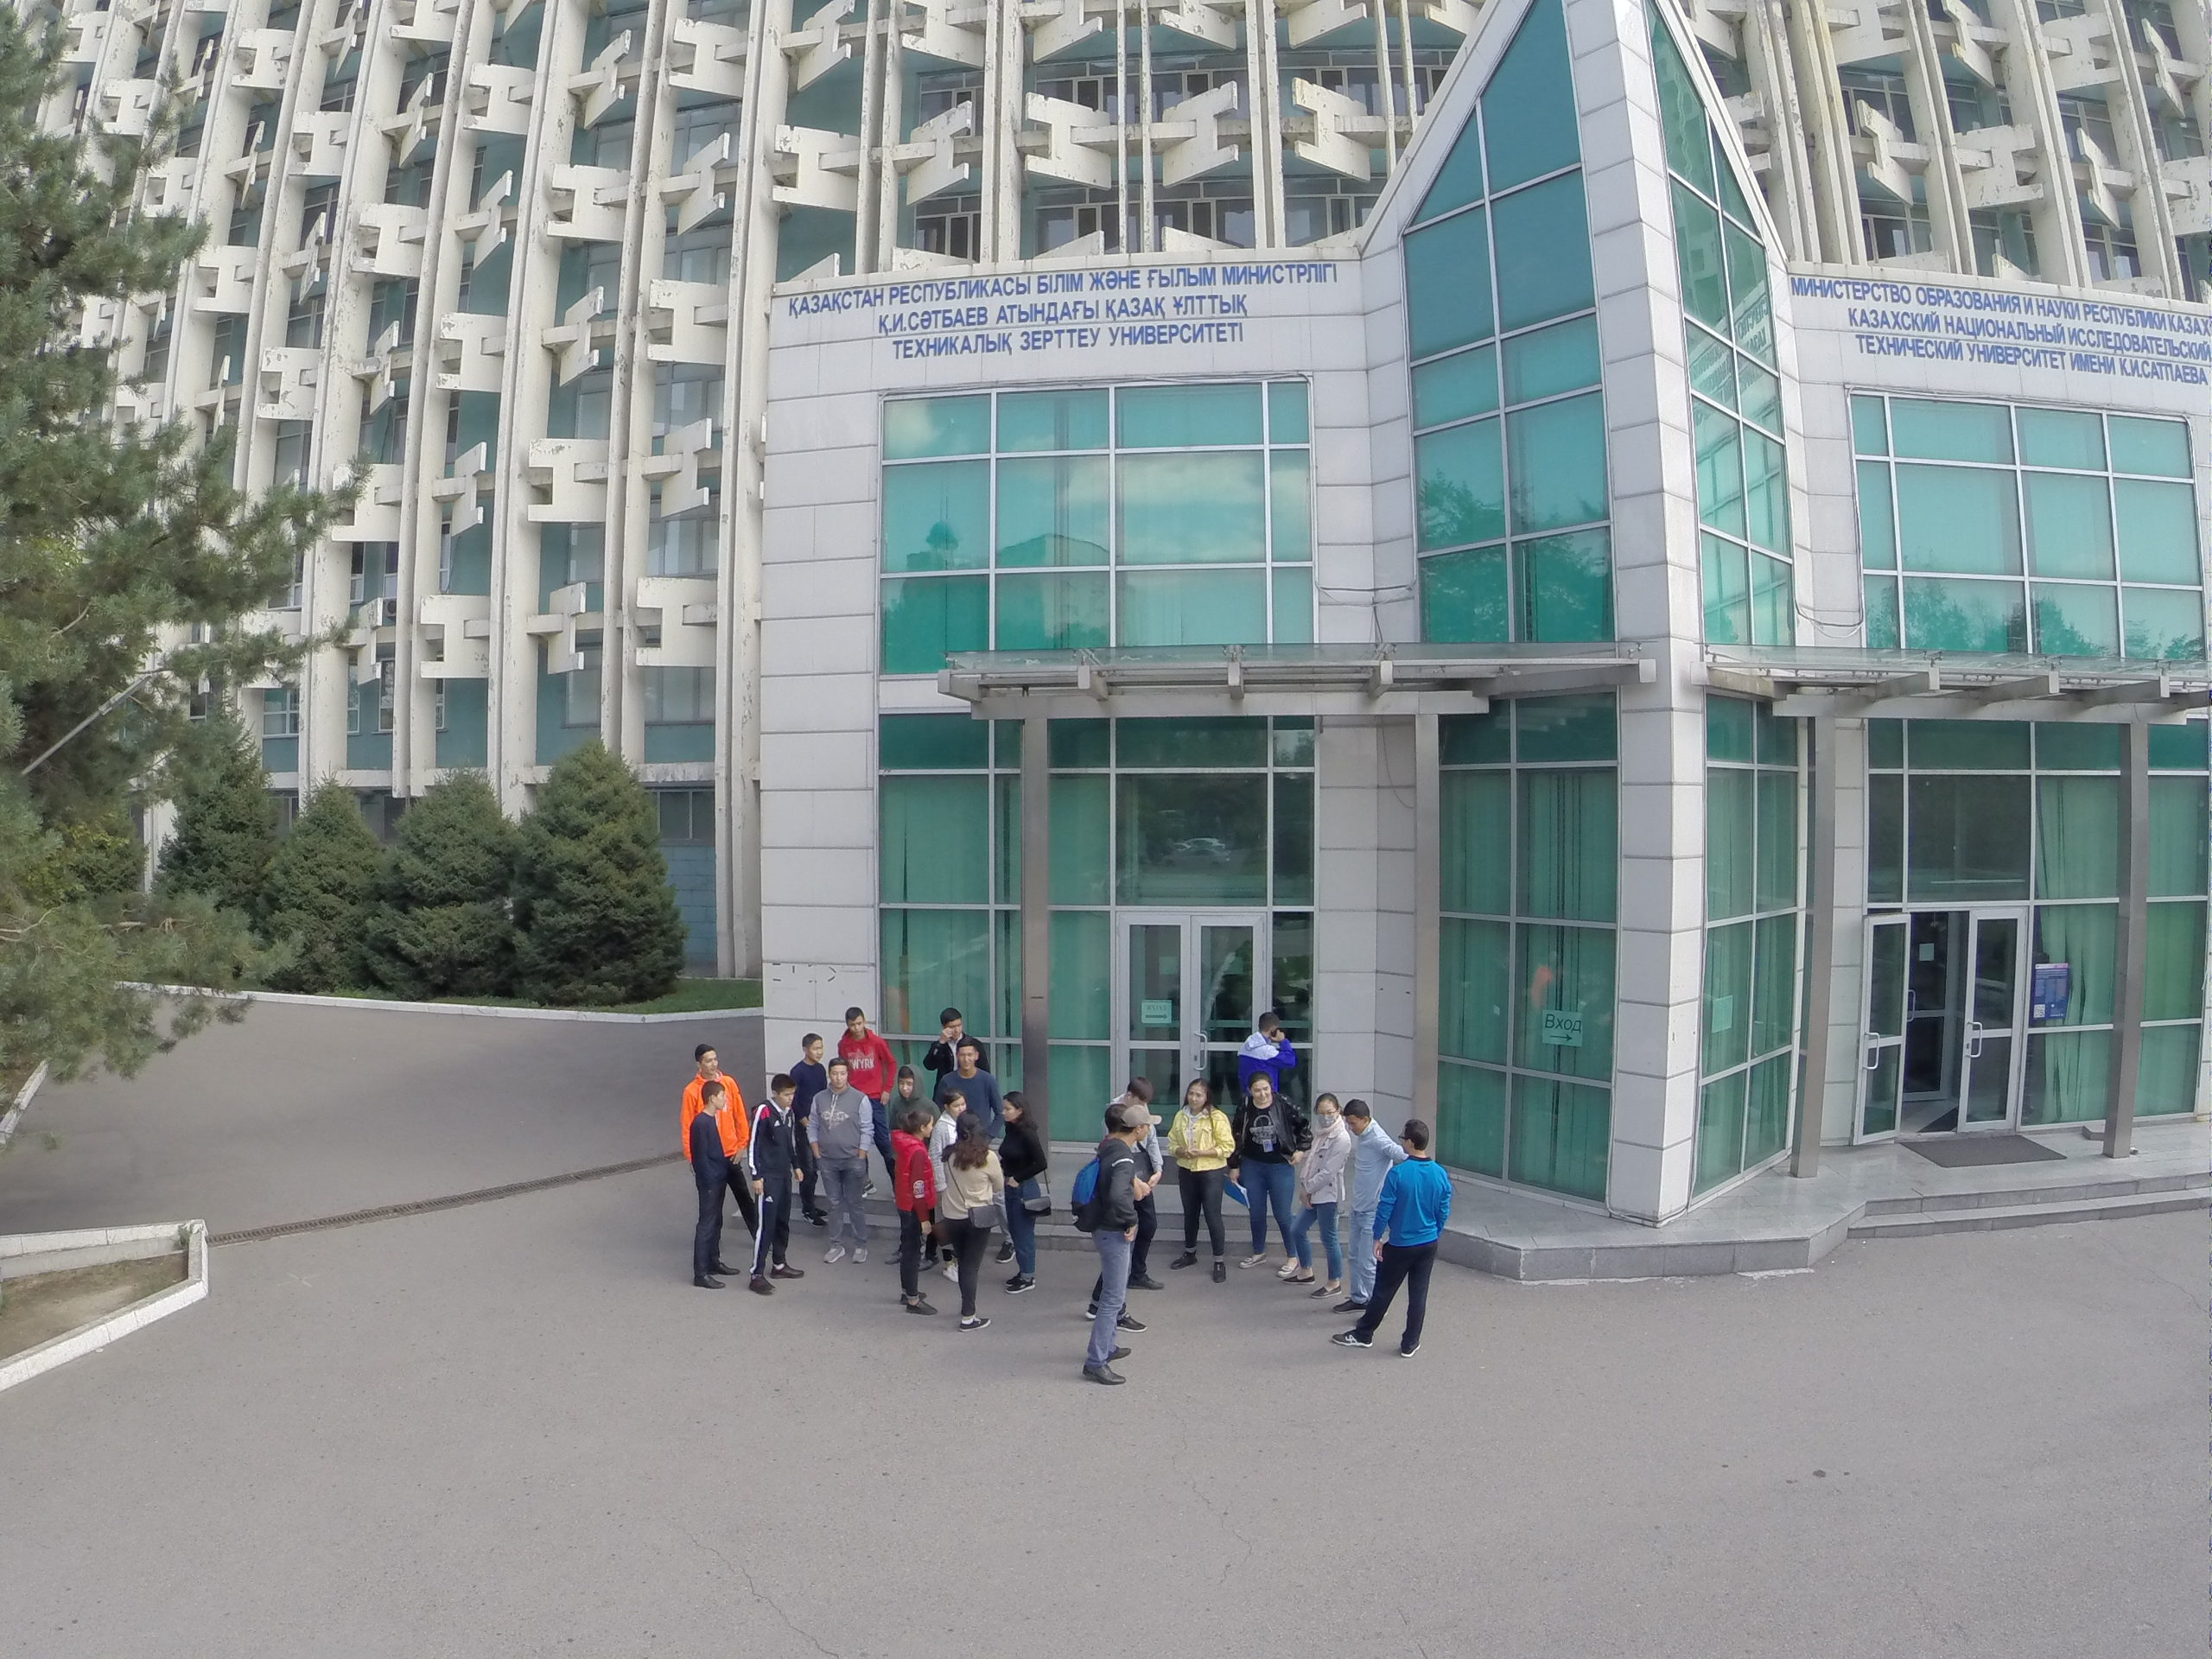person: (1080, 1112, 1154, 1390), (1379, 1123, 1440, 1361), (1170, 1079, 1236, 1289), (1237, 1078, 1306, 1275), (945, 1109, 1004, 1333), (993, 1088, 1053, 1296), (749, 1072, 798, 1305), (1331, 1092, 1382, 1310), (823, 1068, 879, 1261), (685, 1095, 738, 1291), (889, 1113, 939, 1318), (1298, 1090, 1344, 1299), (1236, 1010, 1306, 1090), (842, 1007, 893, 1078), (678, 1042, 745, 1092), (946, 1041, 995, 1096), (795, 1025, 832, 1095), (882, 1061, 931, 1116), (938, 1008, 971, 1053)
